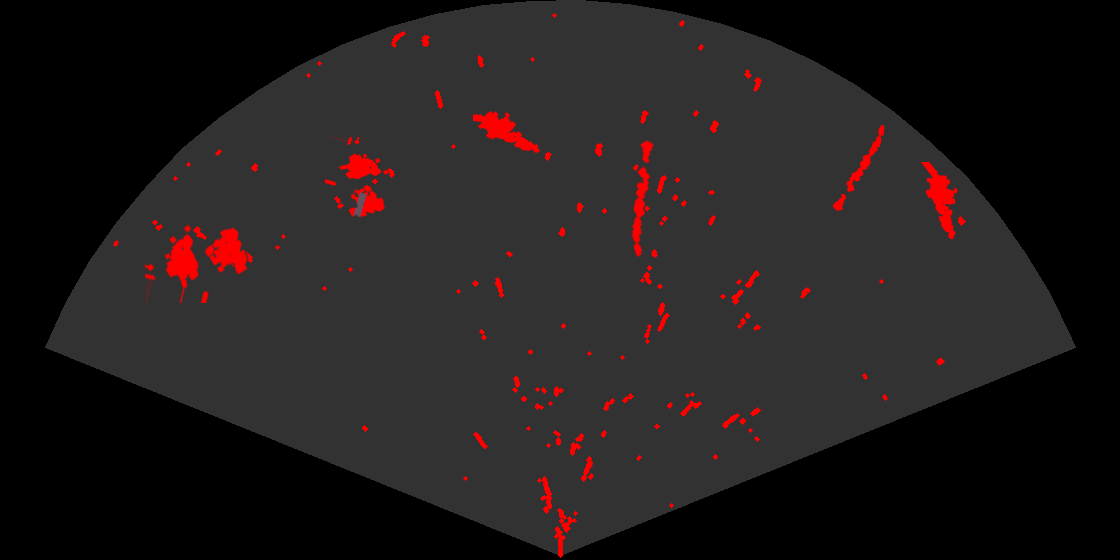cage: (145, 223, 249, 303), (325, 137, 390, 219)
chain: (831, 123, 886, 213), (630, 138, 655, 259)
frogman: (919, 162, 959, 241), (473, 110, 542, 154)
